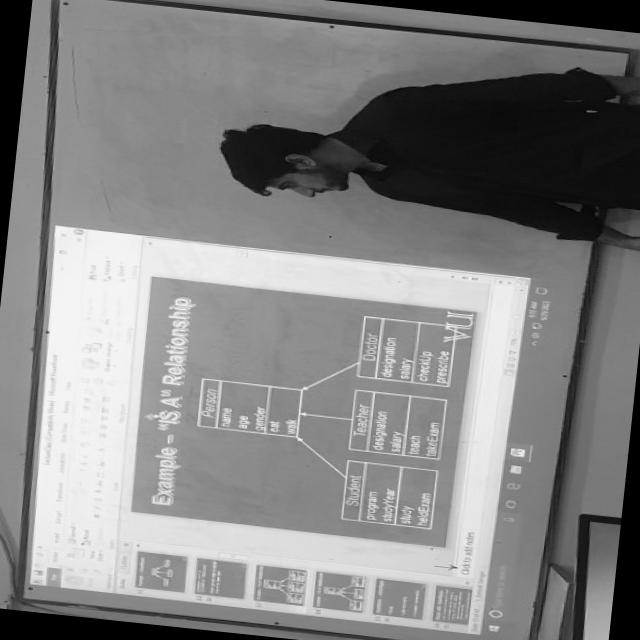Instructor: (197, 26, 640, 237)
Slide: (29, 223, 565, 639)
White-board: (18, 0, 635, 640)
